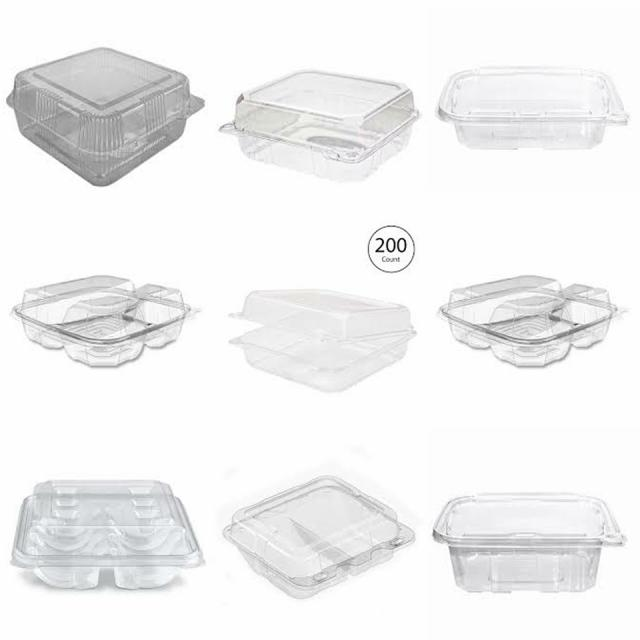Single-Use-Plastic: (8, 48, 204, 185), (224, 476, 414, 598), (220, 71, 419, 180), (11, 480, 204, 588), (432, 494, 625, 592), (230, 290, 415, 391), (12, 275, 191, 366), (440, 276, 616, 366), (438, 68, 628, 148)
